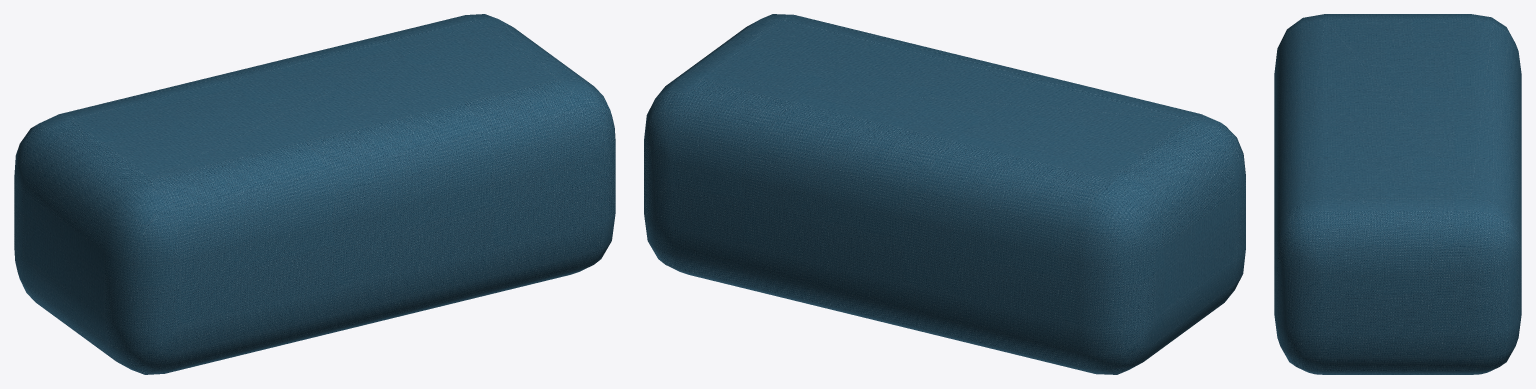
The model's file is SM_咨询室_沙发组件_004.fbx.
3 views of the same model, side by side, from view 1: azimuth 30°, elevation 25°; view 2: azimuth 150°, elevation 25°; view 3: azimuth 270°, elevation 25° (orthographic). The views are drawn at different scales.
Parts seen in each view (by area): view 1: SM_咨询室_沙发组件_004; view 2: SM_咨询室_沙发组件_004; view 3: SM_咨询室_沙发组件_004.
Boxes of the visible parts, x1,y1,x2,y2 form: SM_咨询室_沙发组件_004: [14, 14, 615, 374]; SM_咨询室_沙发组件_004: [644, 14, 1245, 374]; SM_咨询室_沙发组件_004: [1274, 14, 1521, 374].
Bounding box in the file's own units: 1581 × 573 × 751.
